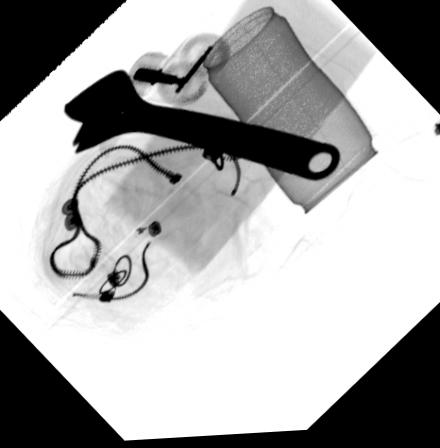Wrench: (60, 67, 343, 187)
